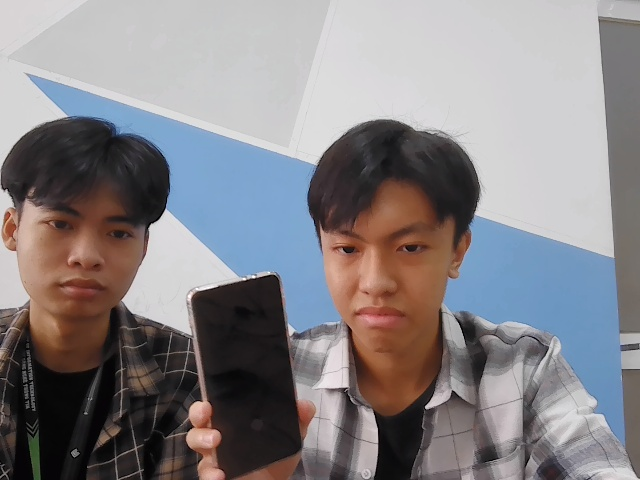human: (308, 121, 480, 356), (1, 113, 170, 328)
phone: (183, 270, 307, 476)
